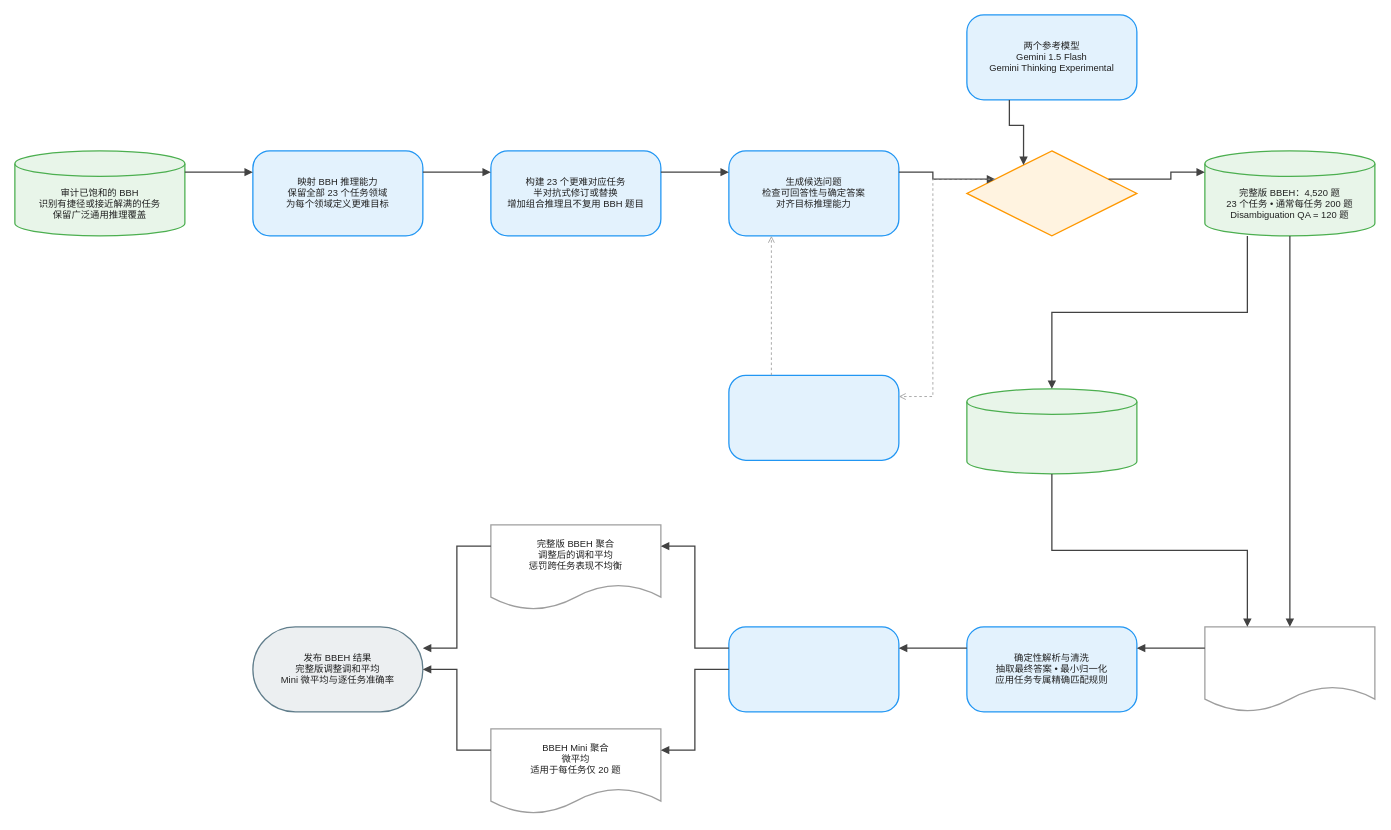
This 1391x830 diagram has some shape labels left out. The centre of each missing label's shape, as x and y in pixels:
"BBEH Mini 每任务 20 题 23 × 20 = 460 题" goes at pixel 1051 431.
"两个参考模型均低于 70%？ 对每个任务分别要求 通过则冻结 • 未通过则继续加难" goes at pixel 1051 193.
"修订或替换任务 移除捷径 • 增加必要推理 返回候选生成阶段" goes at pixel 813 417.
"固定评测后缀 逐步推理指令 固定最终答案前缀与格式" goes at pixel 1289 669.
"逐任务准确率 评分完整版或 Mini 的每个样本 保留逐任务表现向量" goes at pixel 813 669.
